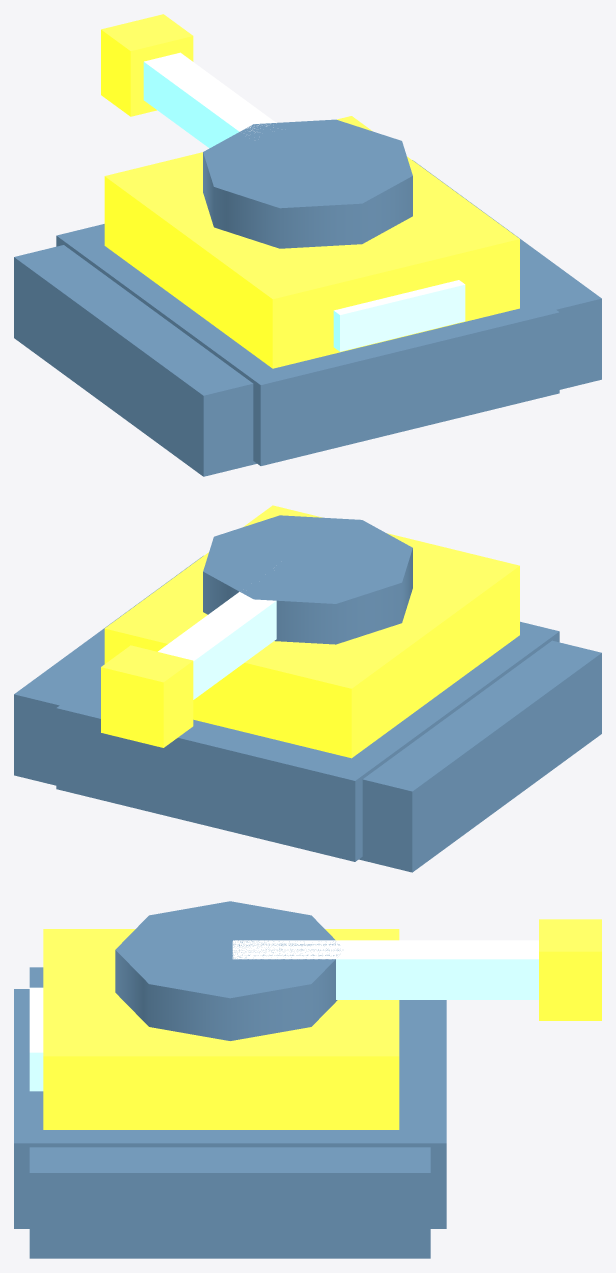
Rendered from cyber-tank-low.glb.
3 views of the same model, one above another, from view 1: azimuth 30°, elevation 25°; view 2: azimuth 150°, elevation 25°; view 3: azimuth 270°, elevation 25° (orthographic). The views are drawn at different scales.
Parts seen in each view (by area): view 1: ARMORED_BODY, LOWER_CHASSIS, LEFT_TRACK, TURRET_DOME, ENERGY_BARREL, RIGHT_TRACK, ENERGY_REAR, MUZZLE; view 2: ARMORED_BODY, LOWER_CHASSIS, LEFT_TRACK, TURRET_DOME, MUZZLE, RIGHT_TRACK, ENERGY_BARREL; view 3: ARMORED_BODY, RIGHT_TRACK, TURRET_DOME, LOWER_CHASSIS, ENERGY_BARREL, MUZZLE, ENERGY_REAR.
Part boxes in pixels (x1,y1,x2,y2): ARMORED_BODY: (104,116,519,368); LOWER_CHASSIS: (56,224,559,465); LEFT_TRACK: (14,245,256,476); TURRET_DOME: (203,119,412,248); ENERGY_BARREL: (143,52,276,148); RIGHT_TRACK: (412,160,601,389); ENERGY_REAR: (333,280,465,351); MUZZLE: (101,14,193,116); ARMORED_BODY: (104,505,519,758); LOWER_CHASSIS: (56,621,559,861); LEFT_TRACK: (359,640,601,872); TURRET_DOME: (203,515,412,644); MUZZLE: (101,645,193,747); RIGHT_TRACK: (14,555,203,785); ENERGY_BARREL: (158,591,276,699); ARMORED_BODY: (43,929,399,1129); RIGHT_TRACK: (29,1147,430,1258); TURRET_DOME: (115,901,340,1040); LOWER_CHASSIS: (14,989,446,1228); ENERGY_BARREL: (232,940,538,999); MUZZLE: (539,919,601,1020); ENERGY_REAR: (29,987,43,1091).
Bounding box in the file's own units: 2.16 × 1.08 × 2.61.
